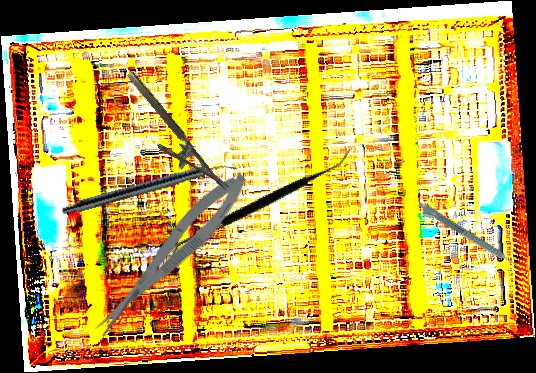Handpiece: (60, 155, 238, 221), (414, 200, 519, 273)
Micro Scissor: (83, 164, 257, 343)
Needle Holder: (110, 69, 230, 207)
Spatula Surgical: (166, 96, 354, 315)
